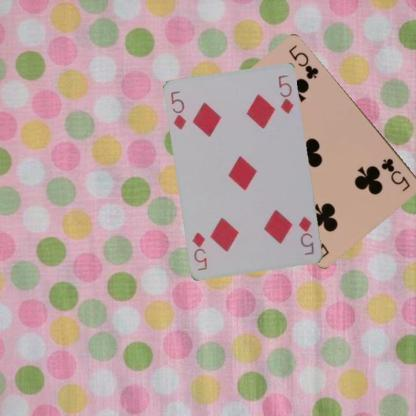5c: (378, 155, 412, 193)
5d: (168, 89, 188, 132), (297, 214, 316, 256)
